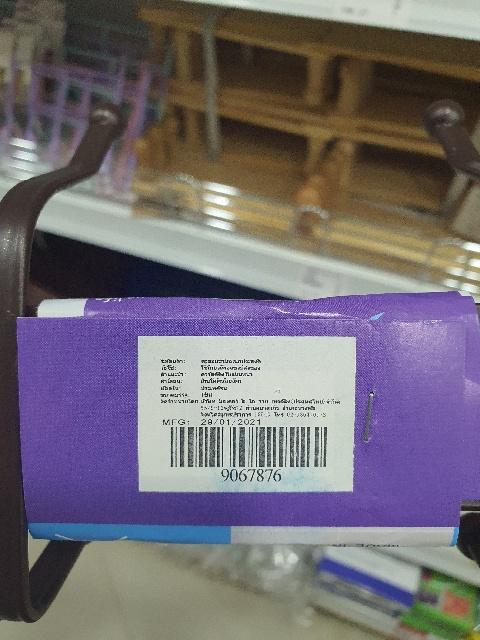Barcode: (161, 421, 338, 483)
